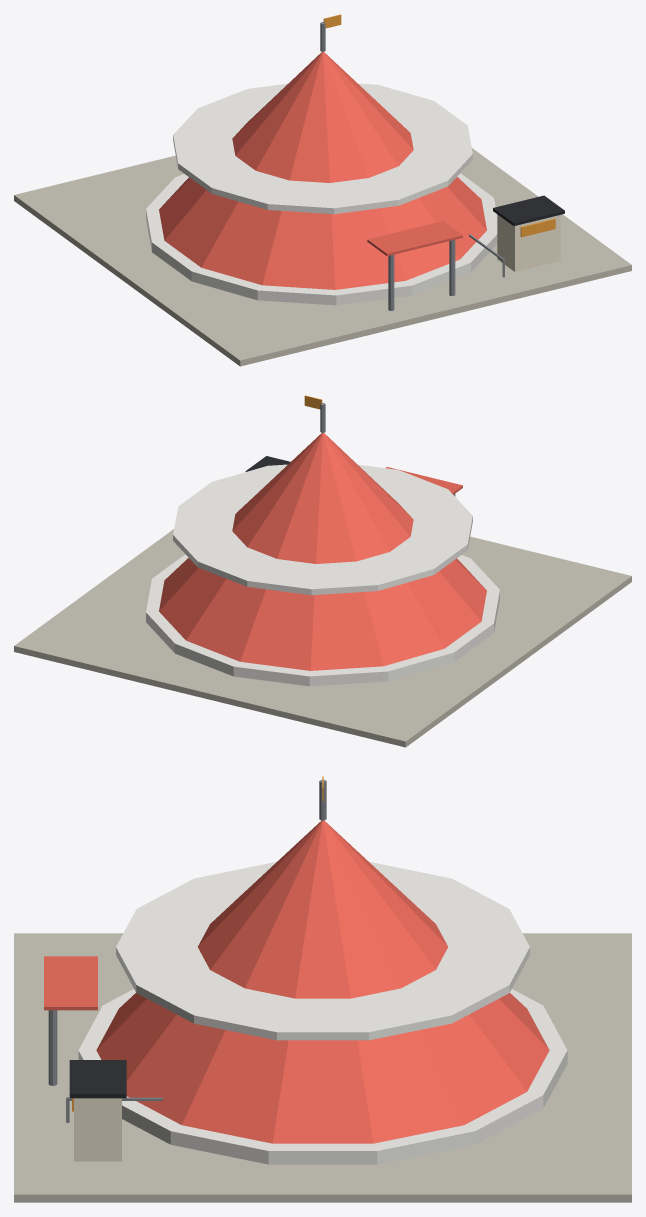
File: building.carnival-bigtop.glb
The picture shows the model from 3 angles, top to bottom: view 1: azimuth 30°, elevation 25°; view 2: azimuth 150°, elevation 25°; view 3: azimuth 270°, elevation 25°; orthographic projection. The views are drawn at different scales.
Parts seen in each view (by area): view 1: building.carnival-bigtop; view 2: building.carnival-bigtop; view 3: building.carnival-bigtop.
Boxes of the visible parts, bbox=[...] form: building.carnival-bigtop: bbox=[14, 14, 631, 366]; building.carnival-bigtop: bbox=[14, 395, 631, 747]; building.carnival-bigtop: bbox=[14, 776, 631, 1202].
Bounding box in the file's own units: 20.6 × 10.9 × 20.6.
